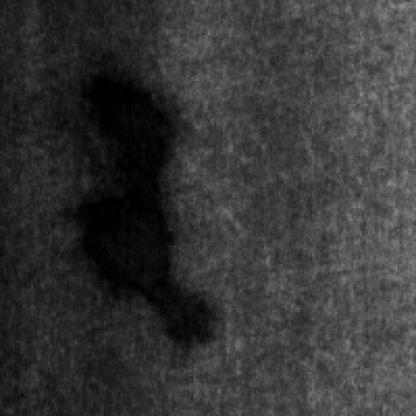patches: (63, 48, 166, 295), (131, 260, 223, 350)
